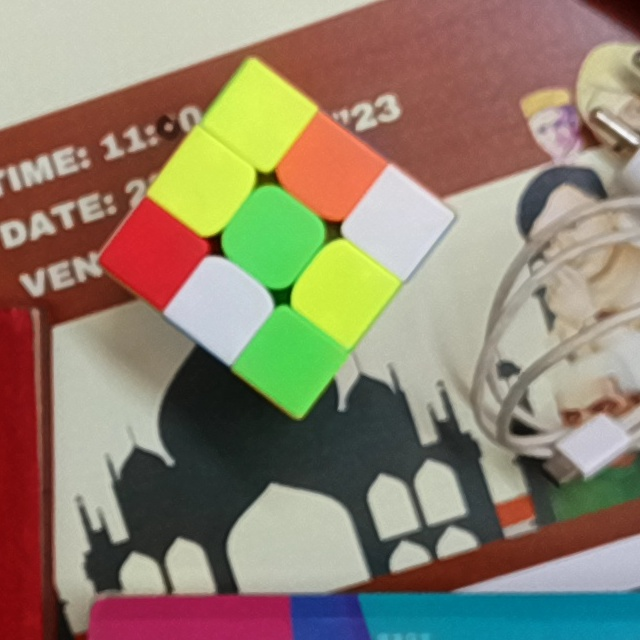tile: (243, 207, 302, 265), (261, 332, 319, 391), (299, 141, 357, 198), (125, 225, 180, 284), (367, 196, 422, 253), (177, 156, 232, 213), (232, 89, 288, 144), (195, 280, 248, 336), (315, 262, 368, 316)
